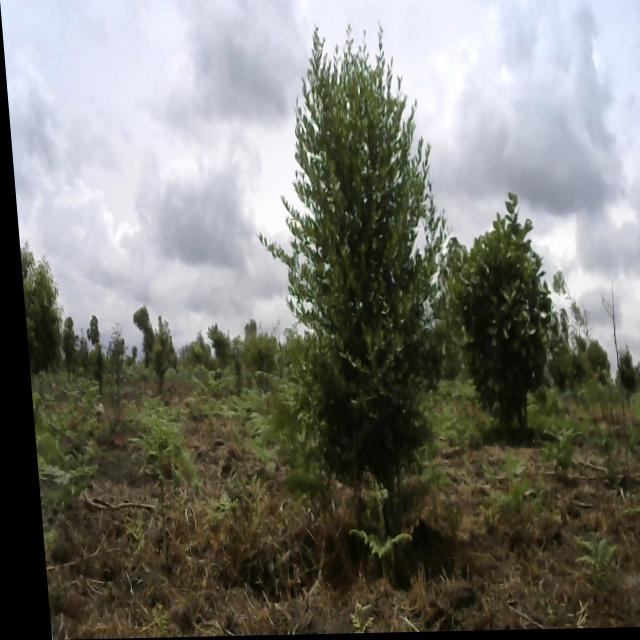Salix alba: (243, 22, 458, 532)
other: (440, 193, 555, 431), (15, 237, 60, 371)
